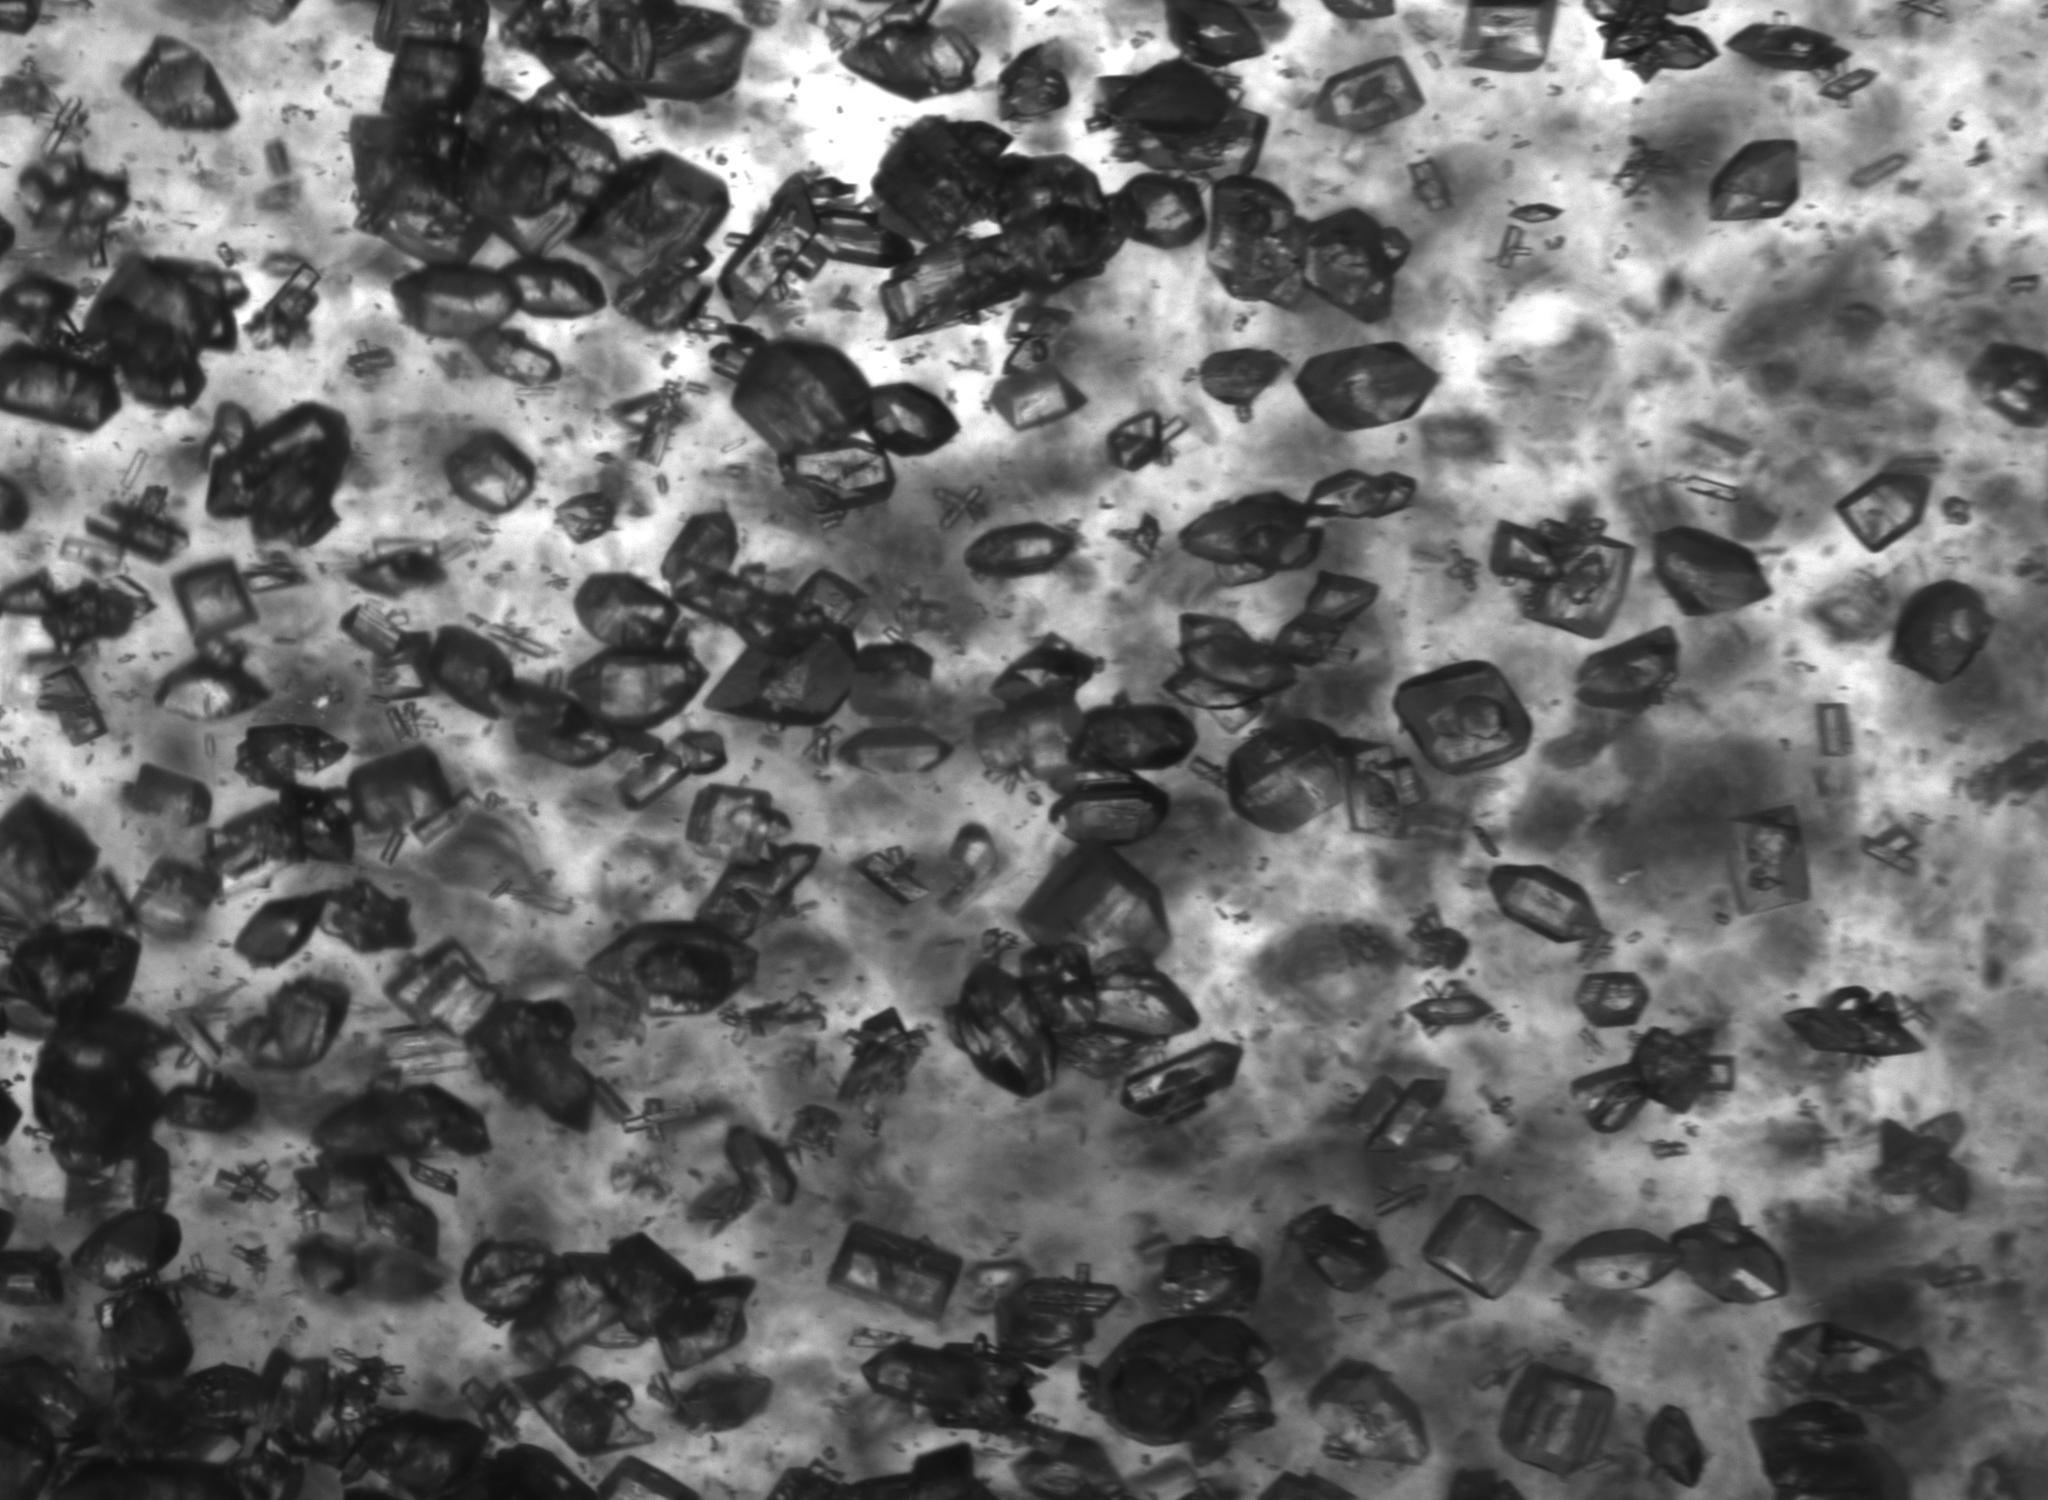crystal: (350, 0, 728, 329), (873, 118, 1126, 336), (342, 604, 617, 767), (663, 514, 867, 725), (461, 1233, 754, 1371), (973, 638, 1196, 787), (1207, 177, 1409, 321), (502, 0, 751, 116), (1081, 1314, 1274, 1462), (719, 172, 910, 318), (1018, 942, 1199, 1080), (81, 253, 240, 407), (1224, 717, 1422, 834), (1086, 57, 1267, 181), (32, 1007, 164, 1176), (207, 402, 351, 546), (1016, 845, 1170, 978), (466, 999, 601, 1131), (391, 258, 607, 339), (1490, 517, 1633, 638), (1571, 1028, 1735, 1133), (730, 337, 871, 458), (862, 1338, 1037, 1435), (588, 919, 757, 1015), (1393, 660, 1533, 775), (825, 0, 979, 100), (944, 961, 1057, 1098), (1768, 1322, 1938, 1411), (297, 1153, 439, 1257), (1178, 492, 1325, 585), (1754, 1400, 1891, 1500), (1499, 1362, 1617, 1478), (347, 748, 466, 862), (1164, 614, 1302, 713), (210, 783, 355, 876), (0, 923, 140, 1020), (827, 1222, 962, 1320), (313, 1085, 490, 1160), (1309, 1358, 1429, 1467), (1294, 342, 1439, 431), (0, 792, 97, 923), (514, 1365, 652, 1455), (1671, 1198, 1789, 1304), (351, 1409, 488, 1500), (1423, 1195, 1541, 1300), (0, 569, 148, 651), (223, 977, 350, 1071), (566, 646, 706, 730), (994, 1277, 1123, 1368), (695, 845, 819, 938), (385, 938, 498, 1037), (0, 344, 121, 433), (1585, 0, 1717, 81), (124, 37, 237, 130), (1892, 581, 1994, 682), (1654, 527, 1770, 616), (1119, 1040, 1242, 1123), (1784, 986, 1922, 1059), (1872, 1112, 1972, 1212), (1275, 571, 1379, 660), (154, 641, 269, 721), (1285, 1206, 1390, 1292), (1488, 864, 1601, 943), (1310, 56, 1425, 134), (1576, 627, 1679, 713), (73, 1207, 181, 1288), (1730, 805, 1809, 915), (100, 1284, 192, 1378), (838, 1008, 929, 1102), (619, 732, 727, 810), (781, 441, 895, 514), (685, 784, 792, 862), (84, 485, 189, 563), (1051, 776, 1167, 846), (574, 573, 681, 647), (1154, 1239, 1261, 1312), (1555, 1228, 1678, 1292), (445, 429, 536, 515), (172, 558, 259, 646), (1108, 172, 1205, 250), (132, 856, 221, 940), (1708, 138, 1798, 221), (1835, 472, 1929, 552), (234, 892, 332, 967), (235, 722, 348, 787), (1350, 1075, 1444, 1152), (1460, 0, 1558, 72), (1164, 0, 1266, 68), (849, 641, 932, 724), (1967, 342, 2048, 426), (868, 382, 959, 457), (1196, 348, 1288, 420), (674, 1368, 773, 1433), (991, 366, 1086, 433), (965, 522, 1076, 577), (1725, 24, 1849, 72), (37, 663, 108, 746), (719, 993, 827, 1047), (723, 1126, 798, 1204), (246, 266, 318, 347), (466, 328, 561, 388), (838, 724, 951, 775), (999, 45, 1070, 122), (0, 272, 78, 344), (164, 1074, 256, 1133), (1307, 469, 1417, 519), (1644, 1405, 1708, 1487), (1407, 978, 1495, 1036), (1107, 409, 1185, 471), (596, 1455, 701, 1500), (852, 846, 929, 907), (633, 383, 688, 464), (1574, 970, 1649, 1028), (0, 1247, 64, 1306), (167, 1008, 224, 1072), (555, 492, 615, 544), (949, 822, 999, 883), (1860, 824, 1918, 873), (785, 1104, 843, 1153), (213, 1161, 280, 1203), (1409, 156, 1452, 213), (1849, 151, 1910, 189), (1814, 701, 1854, 757), (1817, 67, 1876, 102), (1673, 474, 1741, 503), (1491, 221, 1531, 269), (1509, 202, 1561, 224)
